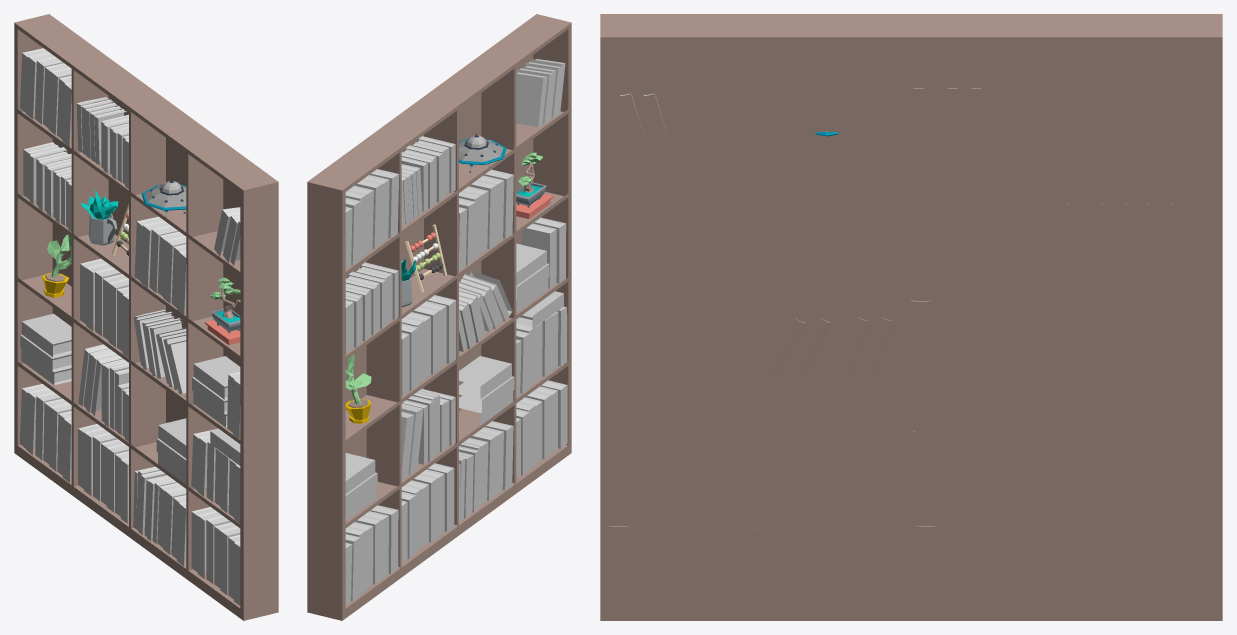
Rendered from bookcase.glb.
3 renders of one model, left to right at view 1: azimuth 30°, elevation 25°; view 2: azimuth 150°, elevation 25°; view 3: azimuth 270°, elevation 25°, orthographic. The views are drawn at different scales.
Parts seen in each view (by area): view 1: bookcase_structure, Books.066, bonsai, shelf_plant, Books.061, shelf_plant_2, flying_saucer, Books.080, Books.067, Books.116, Books.039, Books.003 (+73 smaller); view 2: bookcase_structure, Books.020, bonsai, Books.080, flying_saucer, Books.064, shelf_plant_2, abbicus, Books.061, Books.066, Books.050, Books.104 (+78 smaller); view 3: bookcase_structure.
Boxes of the visible parts, bbox=[...] form: bookcase_structure: bbox=[14, 14, 278, 620]; Books.066: bbox=[21, 313, 71, 357]; bonsai: bbox=[205, 277, 240, 344]; shelf_plant: bbox=[80, 190, 118, 245]; Books.061: bbox=[193, 356, 240, 399]; shelf_plant_2: bbox=[42, 234, 71, 297]; flying_saucer: bbox=[141, 179, 186, 217]; Books.080: bbox=[158, 418, 186, 458]; Books.067: bbox=[20, 334, 71, 371]; Books.116: bbox=[197, 511, 221, 578]; Books.039: bbox=[149, 225, 178, 292]; Books.003: bbox=[34, 56, 63, 124]; bookcase_structure: bbox=[307, 14, 571, 620]; Books.020: bbox=[516, 72, 547, 126]; bonsai: bbox=[516, 152, 553, 218]; Books.080: bbox=[459, 356, 511, 398]; flying_saucer: bbox=[459, 133, 506, 172]; Books.064: bbox=[521, 223, 556, 288]; shelf_plant_2: bbox=[345, 354, 371, 423]; abbicus: bbox=[405, 224, 446, 292]; Books.061: bbox=[516, 243, 546, 285]; Books.066: bbox=[345, 453, 375, 493]; Books.050: bbox=[427, 295, 456, 363]; Books.104: bbox=[427, 463, 454, 531]; bookcase_structure: bbox=[600, 14, 1222, 620].
Bounding box in the file's own units: 2.68 × 20.41 × 19.73.
